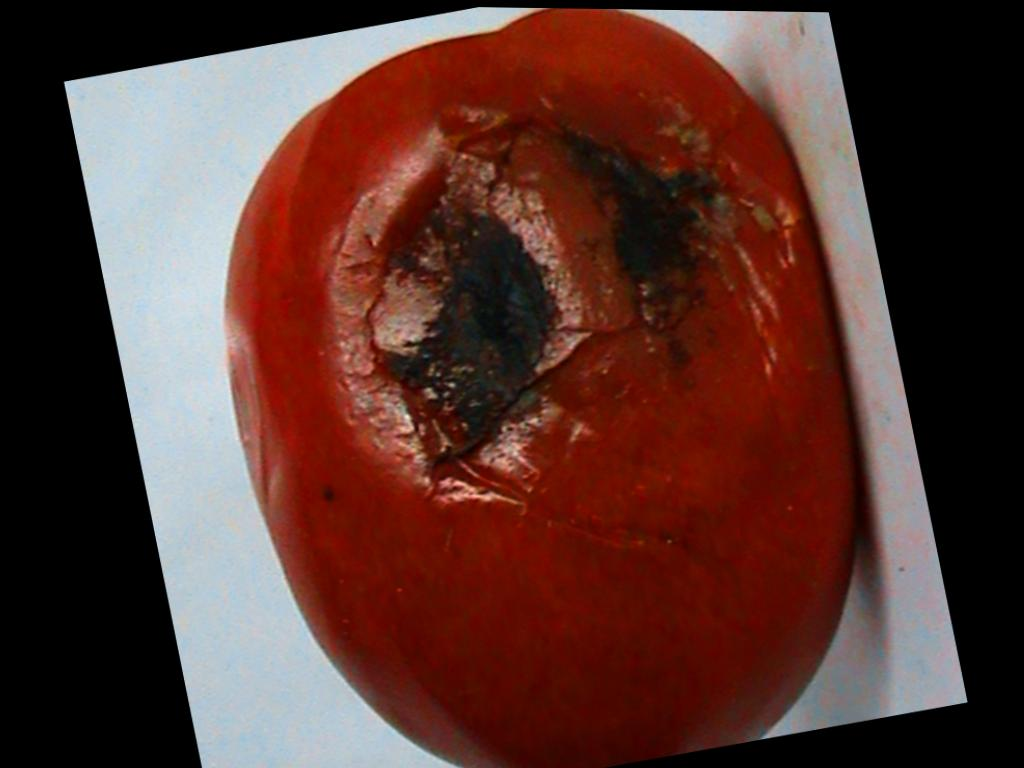rot_mold_decay: (377, 202, 558, 459), (322, 129, 454, 464), (449, 154, 589, 373), (561, 137, 710, 326), (249, 111, 319, 219)
surface_damage: (425, 465, 728, 589), (425, 338, 597, 468), (709, 100, 791, 264), (339, 163, 445, 269), (549, 296, 728, 337), (462, 115, 536, 195), (347, 293, 383, 377)
tomato: (225, 8, 852, 768)
